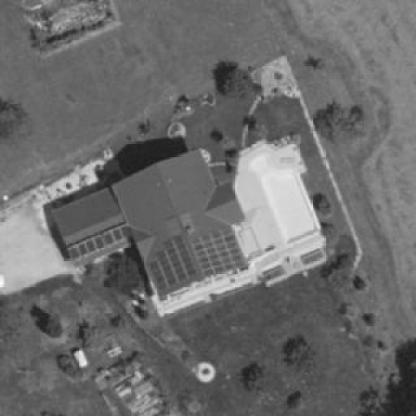solar-pv-panel: (150, 236, 198, 290), (191, 229, 244, 276), (69, 225, 132, 259)
